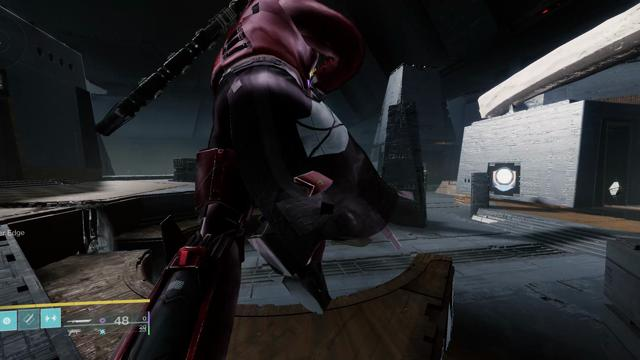traveler: (493, 167, 516, 191)
